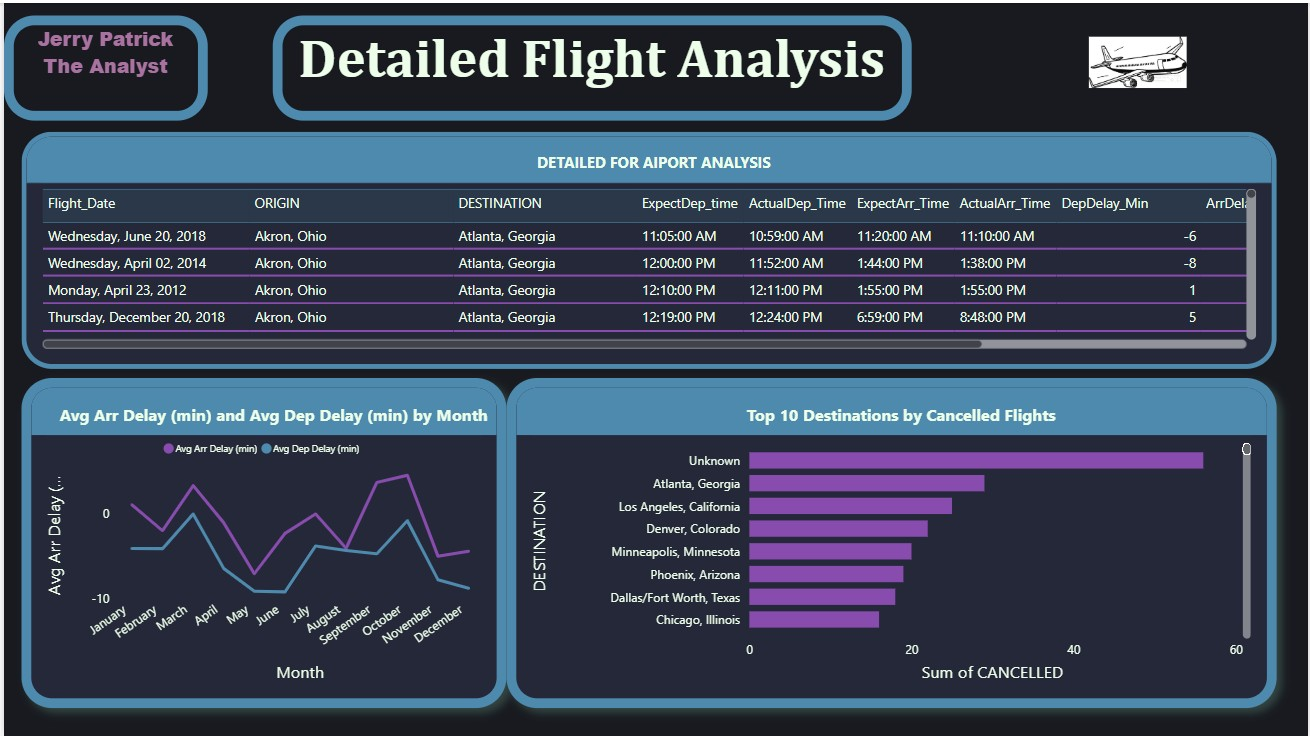

Layout of this report page (visuals, bound fields, positions):
{"tool":"powerbi","page":{"name":"Detailed Flight Analysis","canvas":[1280,720],"ordinal":2},"visuals":[{"type":"textbox","box":[263.8,12.3,627,103.1],"z":0},{"type":"textbox","box":[0,12.3,200,103.1],"z":1},{"type":"image","box":[986.5,12.3,252.8,92],"z":2},{"type":"lineChart","fields":{"Category":["flights_data.Flight_Date.Variation.Date Hierarchy.Month"],"Y":["flights_data.Avg Arr Delay (min)","flights_data.Avg Dep Delay (min)"]},"box":[17.2,368.1,476.1,323.9],"z":3},{"type":"tableEx","title":"DETAILED FOR AIPORT ANALYSIS","fields":{"Values":["flights_data.Flight_Date","flights_data.ORIGIN","flights_data.DESTINATION","flights_data.ExpectDep_time","flights_data.ActualDep_Time","flights_data.ExpectArr_Time","flights_data.ActualArr_Time","flights_data.DepDelay_Min","flights_data.ArrDelay_Min","flights_data.DISTANCE","flights_data.CANCELLED"]},"box":[17.2,126.4,1231.9,233.1],"z":4},{"type":"clusteredBarChart","title":"Top 10 Destinations by Cancelled Flights","fields":{"Category":["flights_data.DESTINATION"],"Y":["Sum(flights_data.CANCELLED)"]},"box":[493,368,756,324],"z":5}]}

Visuals, with their boxes in screenshot pixels (x1, y1, x2, y2), scaled from the page's 1280x720 canvas onto the 1310x736 screenshot:
textbox: select_region(270, 13, 912, 118)
textbox: select_region(0, 13, 205, 118)
image: select_region(1010, 13, 1268, 107)
lineChart - flights_data.Flight_Date.Variation.Date Hierarchy.Month x flights_data.Avg Arr Delay (min): select_region(18, 376, 505, 707)
"DETAILED FOR AIPORT ANALYSIS" tableEx: select_region(18, 129, 1278, 367)
"Top 10 Destinations by Cancelled Flights" clusteredBarChart: select_region(505, 376, 1278, 707)
